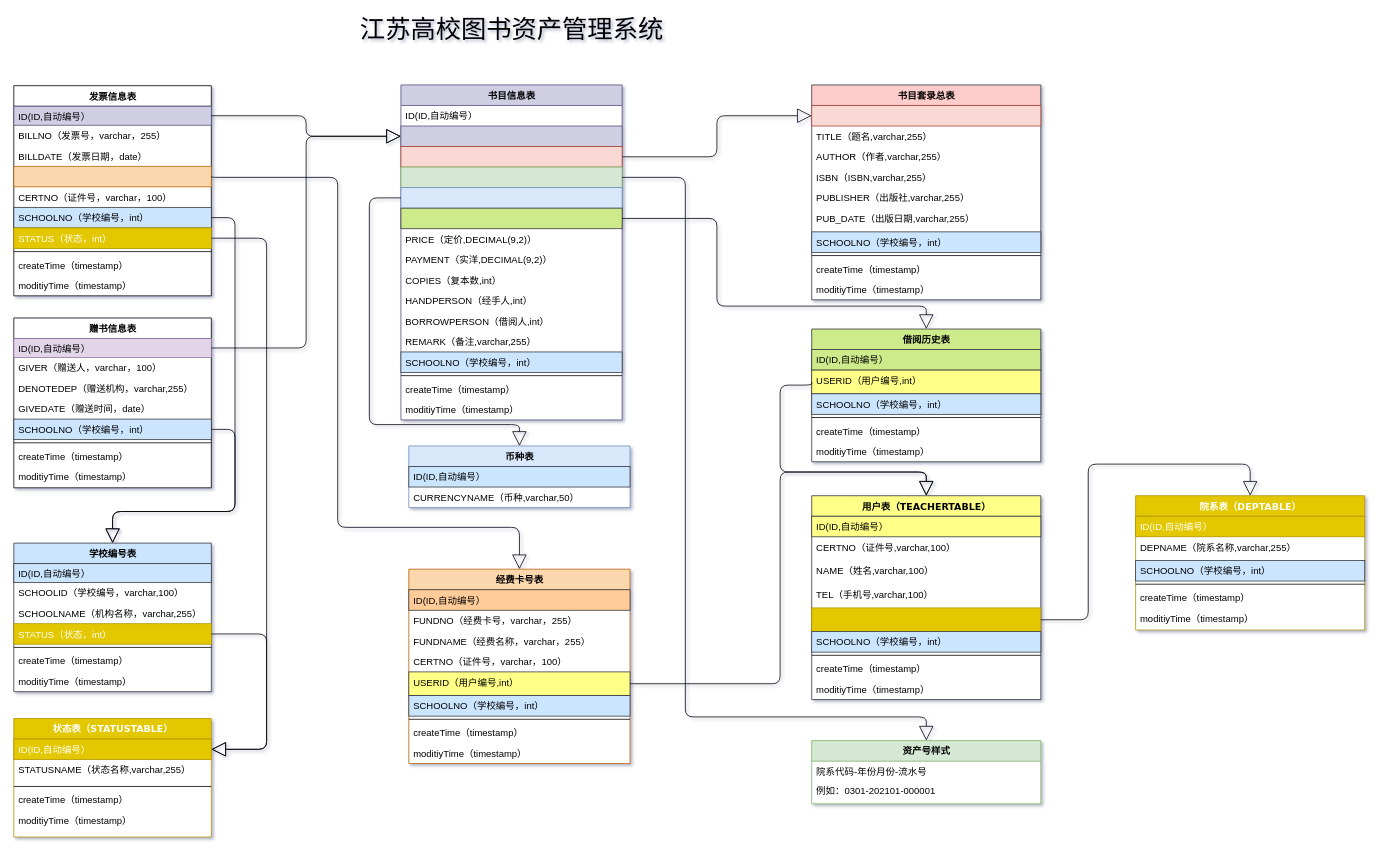
Image size: 1383x856. Some labels were removed from this diagram. Here are the shapes that lost their labels. From the top down, the centre of each, then its label:
point (926, 115): RECORD_ID（元数据控制号,varchar,255）
point (511, 136): BILL_ID(发票表ID号,int）
point (511, 156): RECORD_ID（书目控制号,bigint,20）
point (112, 176): FUNDID（经费卡号，int）
point (511, 177): PROPERTYNO（资产号,varchar,100）
point (511, 197): CURRENCYID（币种,int）
point (511, 218): BORROWERID（借阅人ID,int）
point (926, 619): DEPID（院系ID,int）
